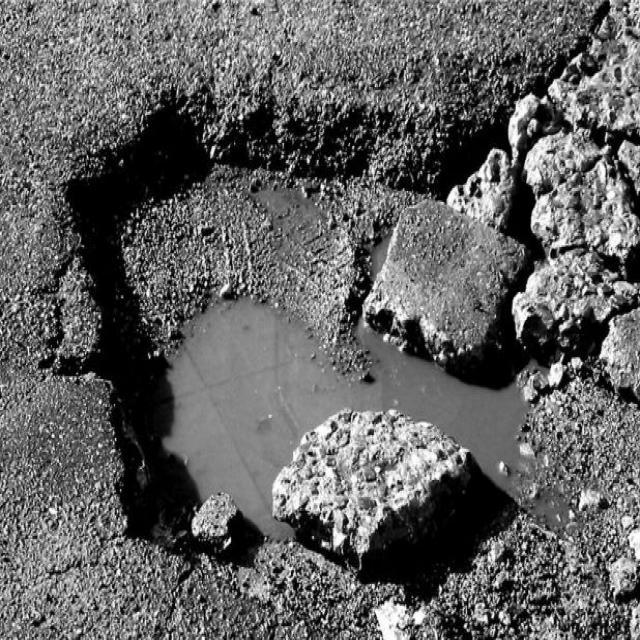pothole: (54, 70, 579, 612)
